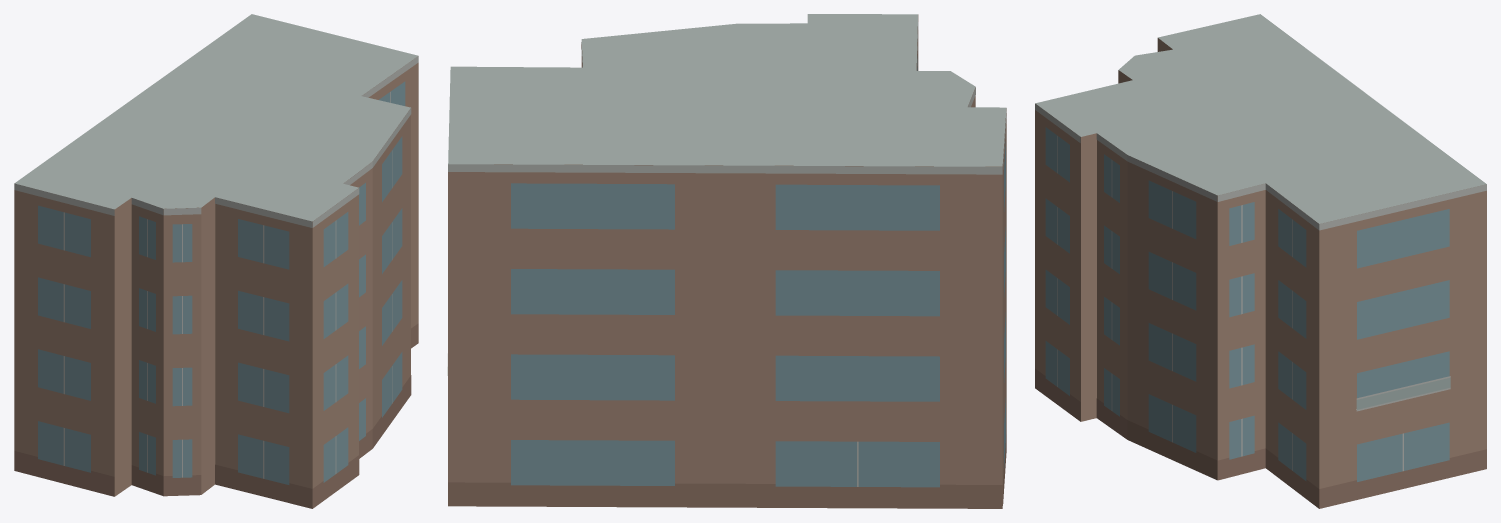
The model's file is survey-upis-32501171.glb.
3 renders of one model, left to right at view 1: azimuth 30°, elevation 25°; view 2: azimuth 150°, elevation 25°; view 3: azimuth 270°, elevation 25°, orthographic. The views are drawn at different scales.
Parts seen in each view (by area): view 1: survey-upis-32501171.tmp; view 2: survey-upis-32501171.tmp; view 3: survey-upis-32501171.tmp.
Boxes of the visible parts, <box> form: survey-upis-32501171.tmp: <box>14,14,418,508</box>; survey-upis-32501171.tmp: <box>447,14,1006,508</box>; survey-upis-32501171.tmp: <box>1035,14,1486,508</box>.
Bounding box in the file's own units: 16.84 × 10.65 × 15.31.
